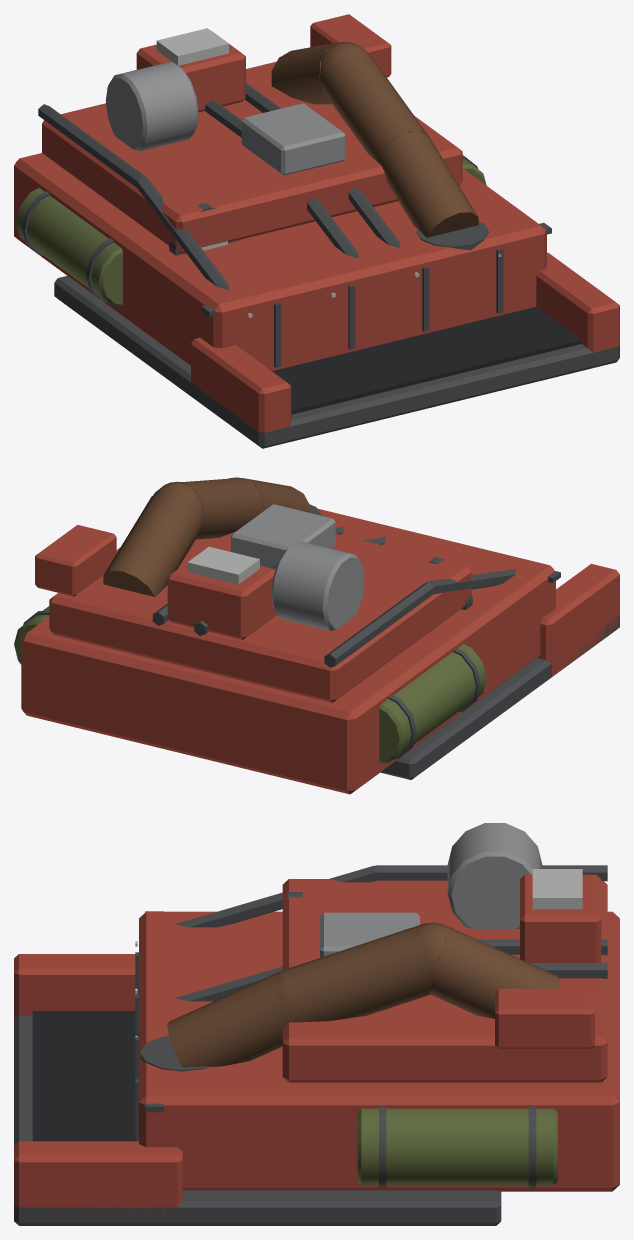
Rendered from landing-pad-unloading-bay.glb.
3 renders of one model, top to bottom at view 1: azimuth 30°, elevation 25°; view 2: azimuth 150°, elevation 25°; view 3: azimuth 270°, elevation 25°, orthographic. The views are drawn at different scales.
Visible parts, largest first — view 1: body; view 2: body; view 3: body.
Boxes of the visible parts, box(x1,y1,x2,y2) form: body: box(14, 14, 619, 448); body: box(14, 477, 619, 794); body: box(14, 823, 619, 1225).
Bounding box in the file's own units: 4.24 × 2.18 × 4.85.
